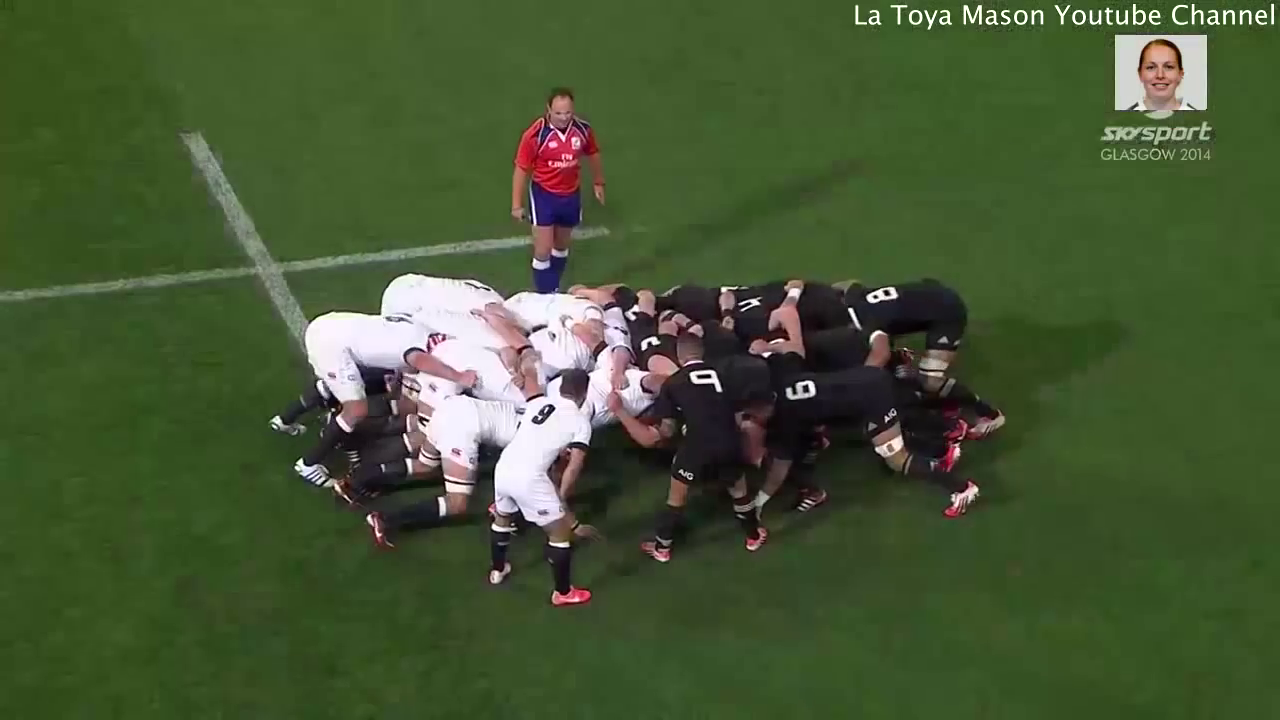10_metre: (1, 113, 603, 384)
player: (741, 331, 1000, 531), (254, 290, 438, 499), (626, 326, 777, 569), (837, 261, 1024, 449), (475, 360, 600, 611), (352, 385, 537, 553), (498, 78, 607, 310)
scrum: (265, 261, 1065, 611)
